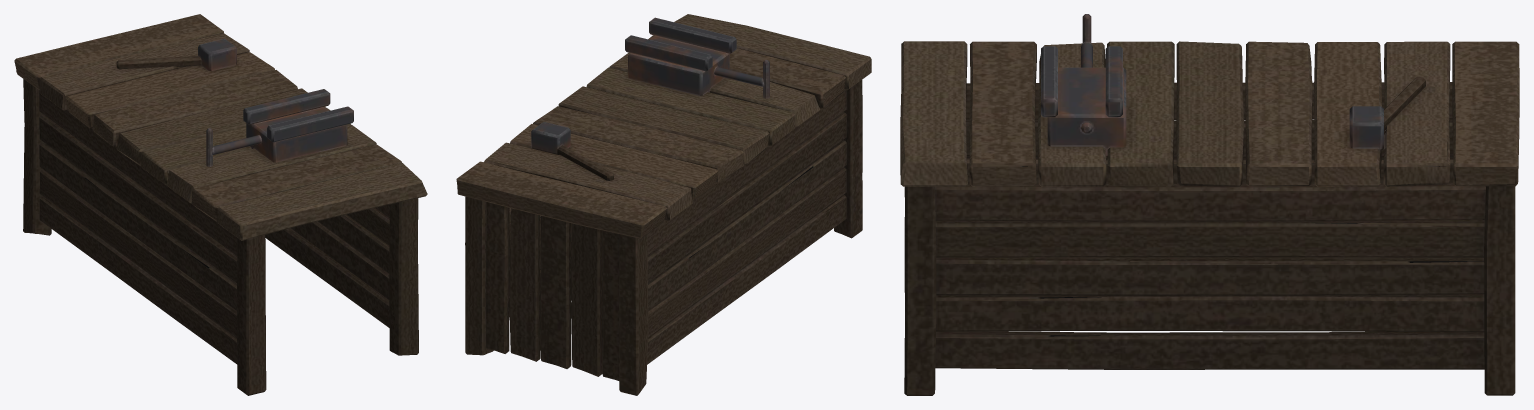
Rendered from workbench.glb.
3 views of the same model, side by side, from view 1: azimuth 30°, elevation 25°; view 2: azimuth 150°, elevation 25°; view 3: azimuth 270°, elevation 25° (orthographic). The views are drawn at different scales.
Visible parts, largest first — view 1: workbench; view 2: workbench; view 3: workbench.
Part boxes in pixels (left/top/right/bottom): workbench: left=14, top=14, right=427, bottom=395; workbench: left=456, top=14, right=871, bottom=395; workbench: left=900, top=14, right=1519, bottom=395.
Bounding box in the file's own units: 0.86 × 0.93 × 1.81.
1 material, 1 textured.
